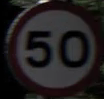Speed limit: (10, 5, 96, 85)
